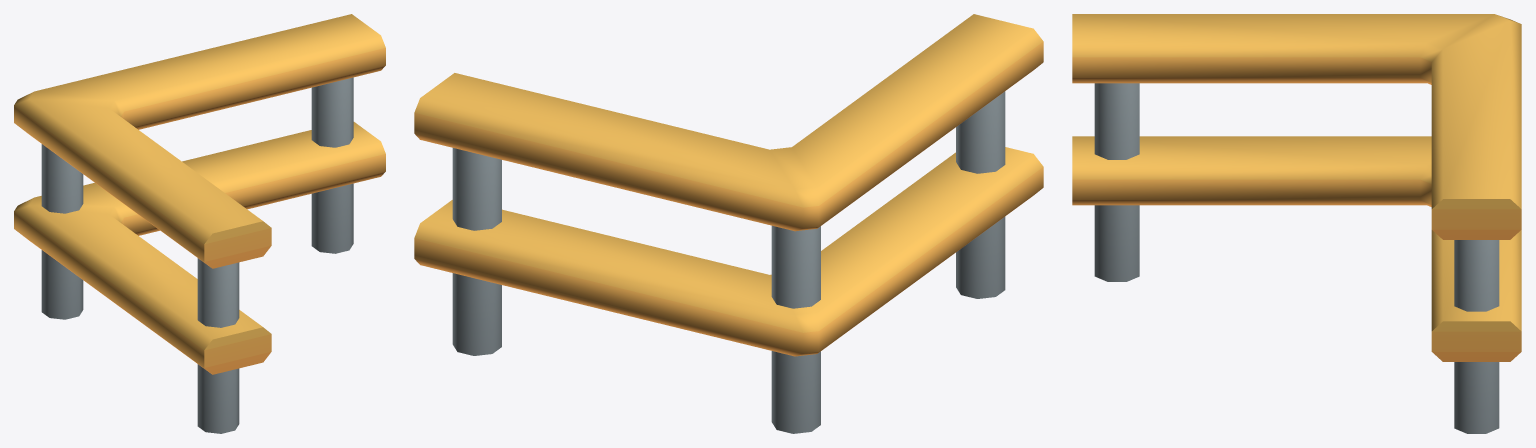
The model's file is railing_corner_double_yellow.glb.
The picture shows the model from 3 angles, left to right: view 1: azimuth 30°, elevation 25°; view 2: azimuth 150°, elevation 25°; view 3: azimuth 270°, elevation 25°; orthographic projection. The views are drawn at different scales.
Parts seen in each view (by area): view 1: railing_corner_double_yellow; view 2: railing_corner_double_yellow; view 3: railing_corner_double_yellow.
Boxes of the visible parts, x1,y1,x2,y2 form: railing_corner_double_yellow: (14, 14, 385, 433); railing_corner_double_yellow: (414, 14, 1043, 433); railing_corner_double_yellow: (1072, 14, 1521, 433).
Bounding box in the file's own units: 2 × 1.2 × 2.
1 material, 1 textured.
